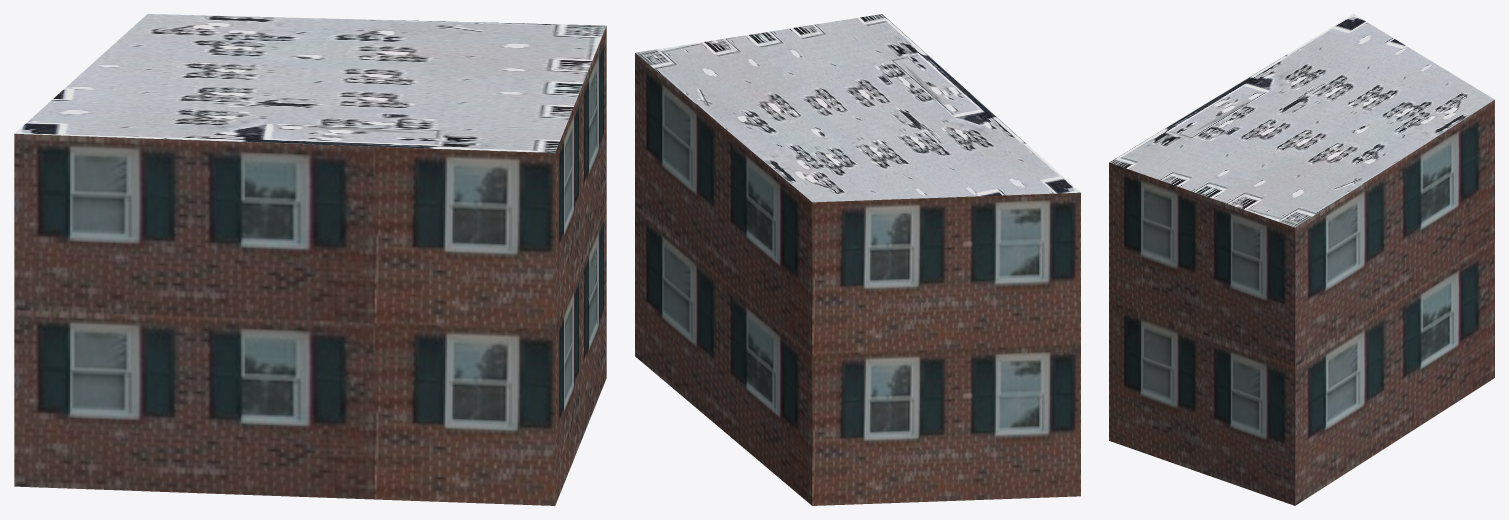
The model's file is ResTex__2301.fbx.
The picture shows the model from 3 angles, left to right: view 1: azimuth 30°, elevation 25°; view 2: azimuth 150°, elevation 25°; view 3: azimuth 270°, elevation 25°; orthographic projection. The views are drawn at different scales.
Visible parts, largest first — view 1: CityEngineMaterial_14_m, CityEngineMaterial_2_m; view 2: CityEngineMaterial_14_m, CityEngineMaterial_2_m; view 3: CityEngineMaterial_14_m, CityEngineMaterial_2_m.
Boxes of the visible parts, x1,y1,x2,y2 form: CityEngineMaterial_14_m: [14, 26, 606, 505]; CityEngineMaterial_2_m: [14, 14, 606, 153]; CityEngineMaterial_14_m: [635, 53, 1080, 505]; CityEngineMaterial_2_m: [635, 14, 1080, 202]; CityEngineMaterial_14_m: [1109, 100, 1494, 505]; CityEngineMaterial_2_m: [1109, 14, 1494, 227].
Bounding box in the file's own units: 9.88 × 6 × 7.54.
Materials: 2 (2 with a texture image).
